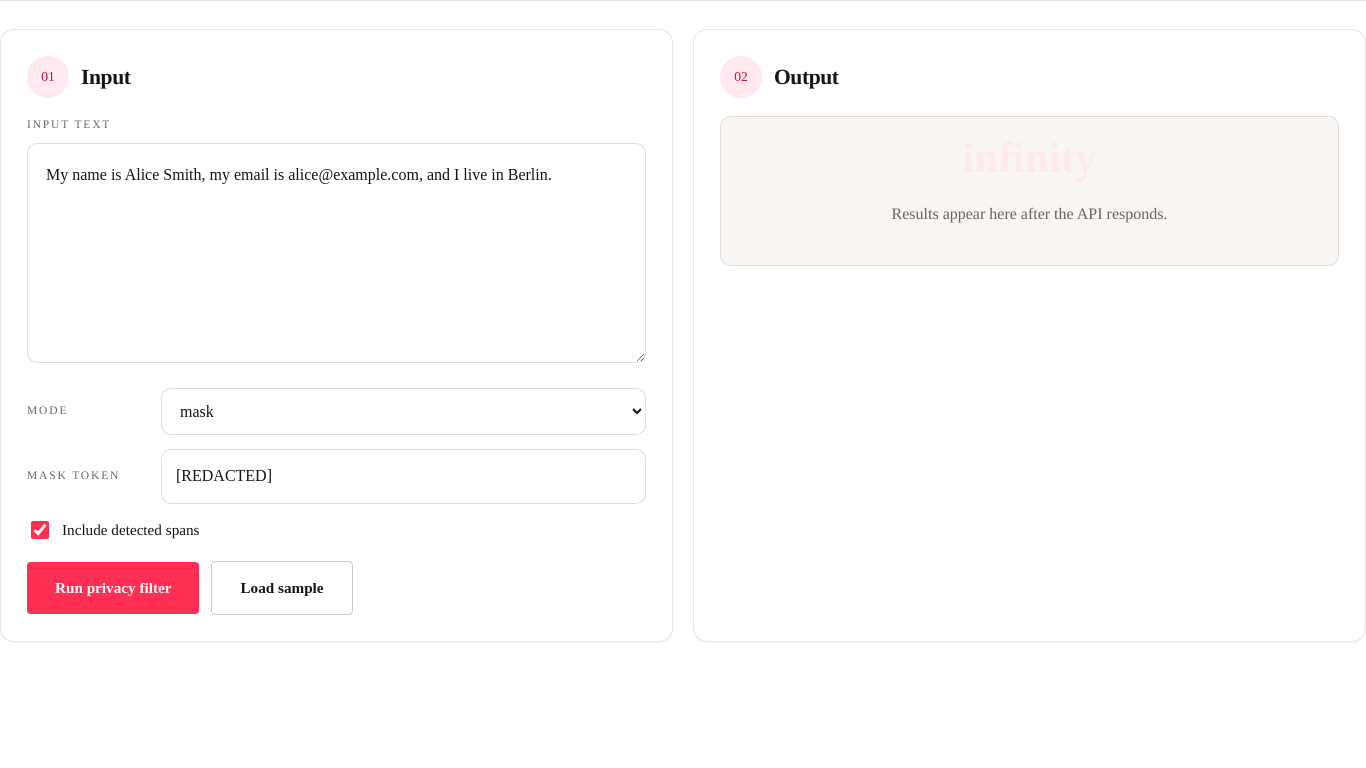
Test: FilterSandbox › server runtime › renders filtered text and spans after a successful response
Click the button "Run privacy filter" at (113, 588), box [27,562,199,614]
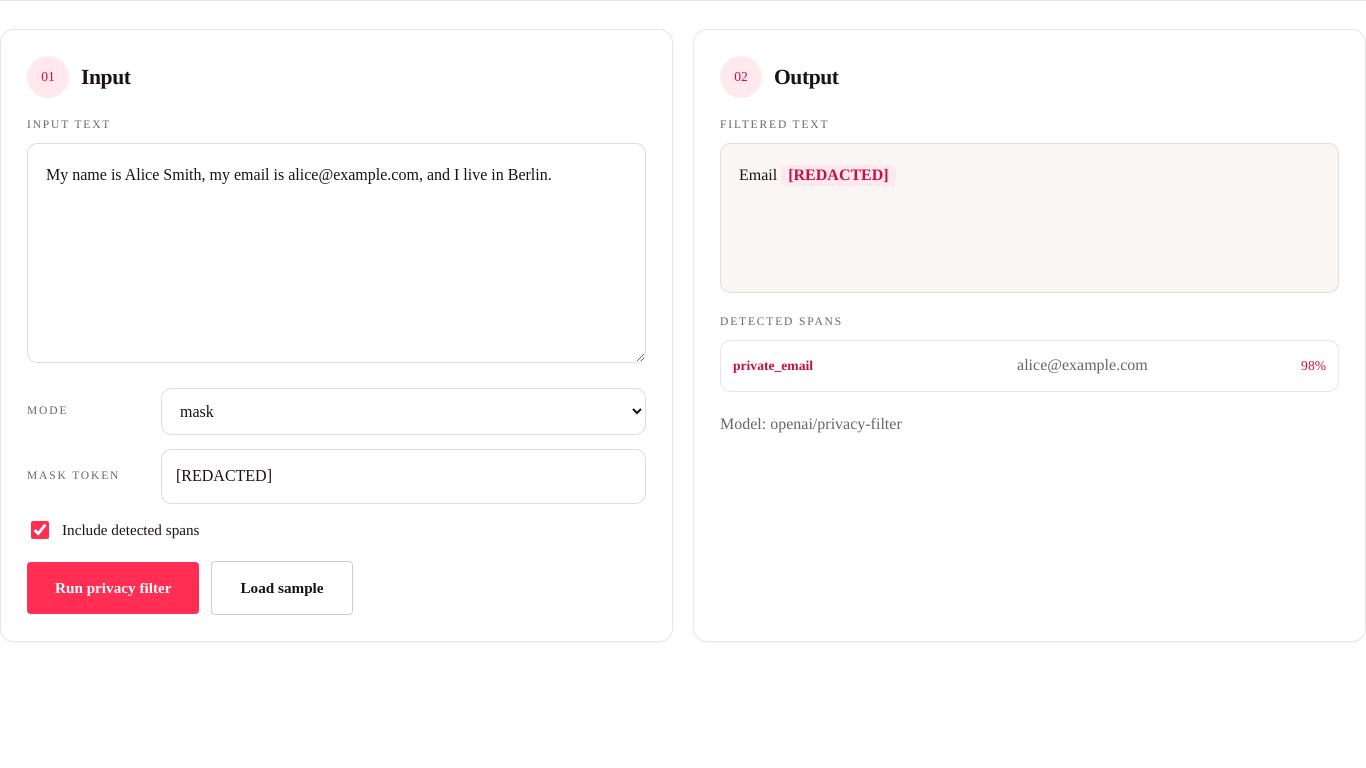
expect the text "private_email" is shown: met, box [733,358,813,373]
expect the text "[REDACTED]" is shown: met, box [781,165,896,186]
expect the text "Model: openai/privacy-filter" is shown: met, box [720,416,902,433]
